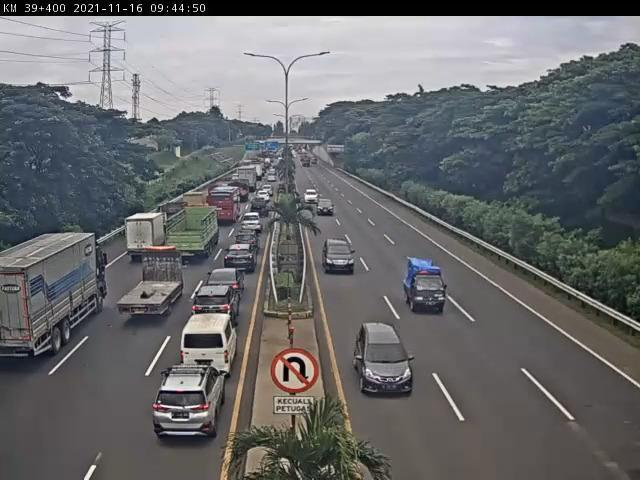bus: (209, 187, 246, 224)
car: (151, 368, 223, 440), (352, 323, 415, 396), (184, 315, 239, 376), (402, 256, 448, 315), (189, 288, 237, 336), (207, 268, 248, 299), (322, 242, 358, 277), (224, 247, 256, 276), (234, 232, 261, 252), (237, 217, 262, 238), (317, 200, 335, 219)
truck: (1, 229, 105, 367), (118, 257, 186, 321), (168, 205, 220, 261), (125, 213, 169, 262), (181, 187, 210, 219)
